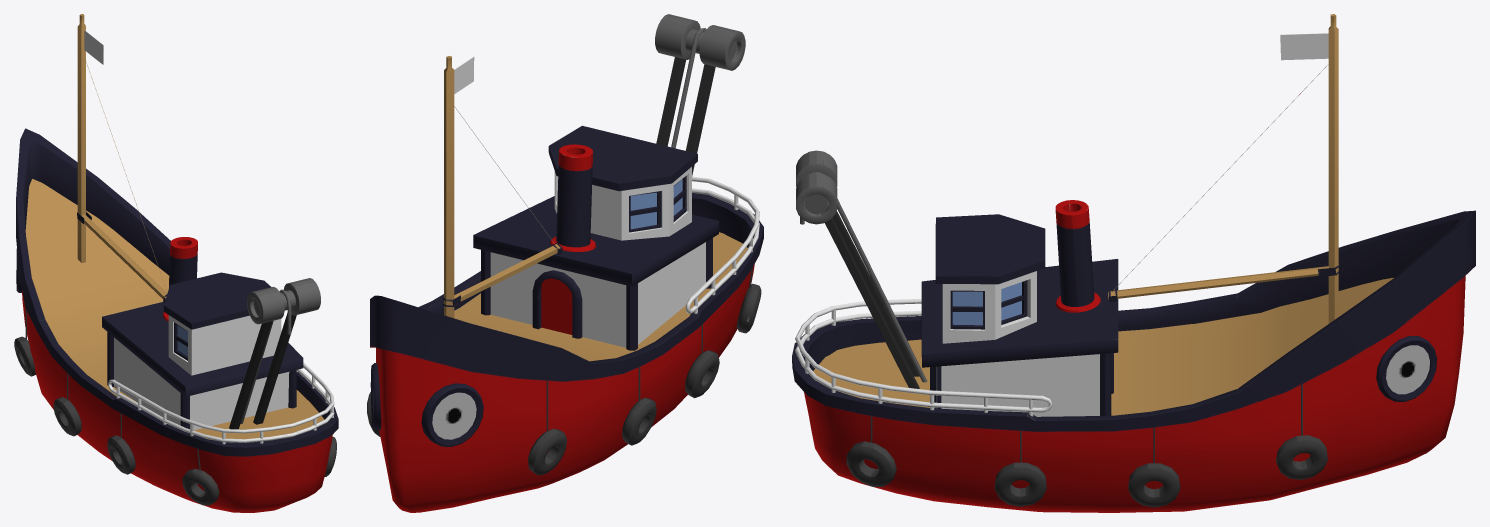
File: Boat1.fbx
The picture shows the model from 3 angles, left to right: view 1: azimuth 30°, elevation 25°; view 2: azimuth 150°, elevation 25°; view 3: azimuth 270°, elevation 25°; orthographic projection. The views are drawn at different scales.
Parts seen in each view (by area): view 1: Plane004; view 2: Plane004; view 3: Plane004.
Part boxes in pixels (x1,y1,x2,y2): Plane004: (14, 14, 338, 512); Plane004: (367, 14, 763, 512); Plane004: (792, 14, 1475, 512).
Bounding box in the file's own units: 25.61 × 49.1 × 64.18.
1 material, 1 textured.
